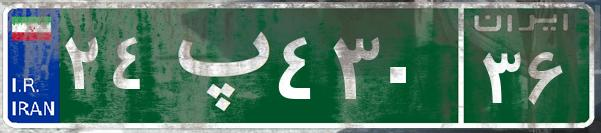0: (385, 28, 445, 110)
2: (57, 26, 110, 107)
3: (330, 28, 385, 110), (475, 38, 525, 113)
4: (273, 28, 330, 110), (110, 28, 158, 105)
6: (525, 38, 570, 115)
پ: (158, 15, 273, 115)
